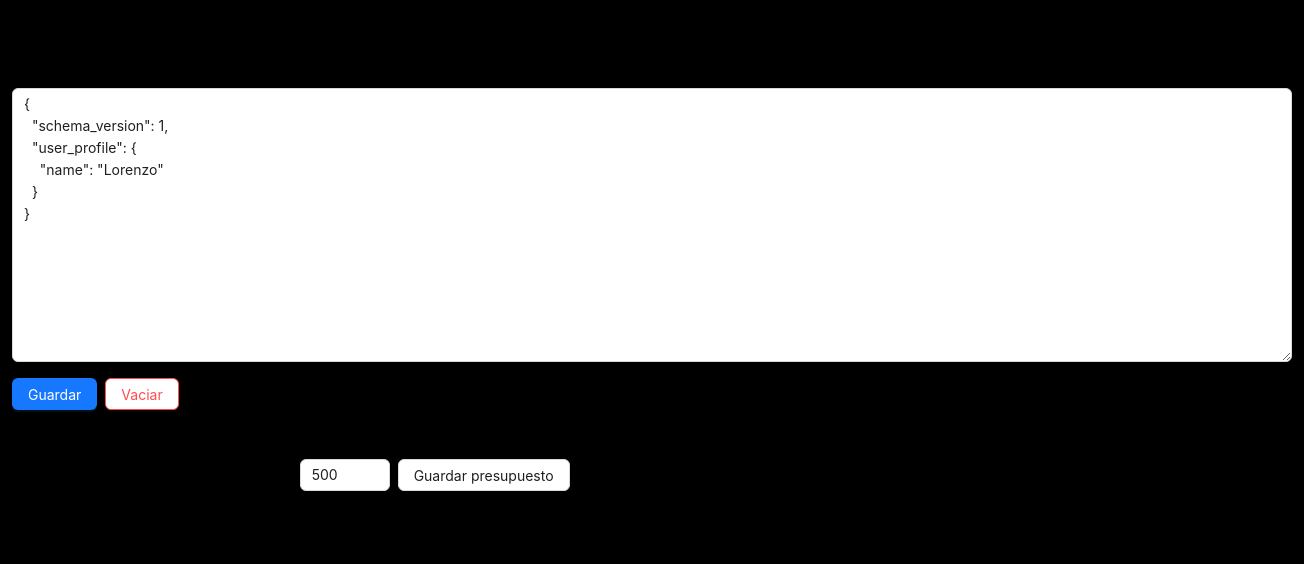
Test: PersistentMemoryPanel › ante 409 recarga el estado y avisa del cambio
This screenshot has width=1304, height=564.
Click the button "Guardar". click: x=55, y=394
box: [12,378,97,410]
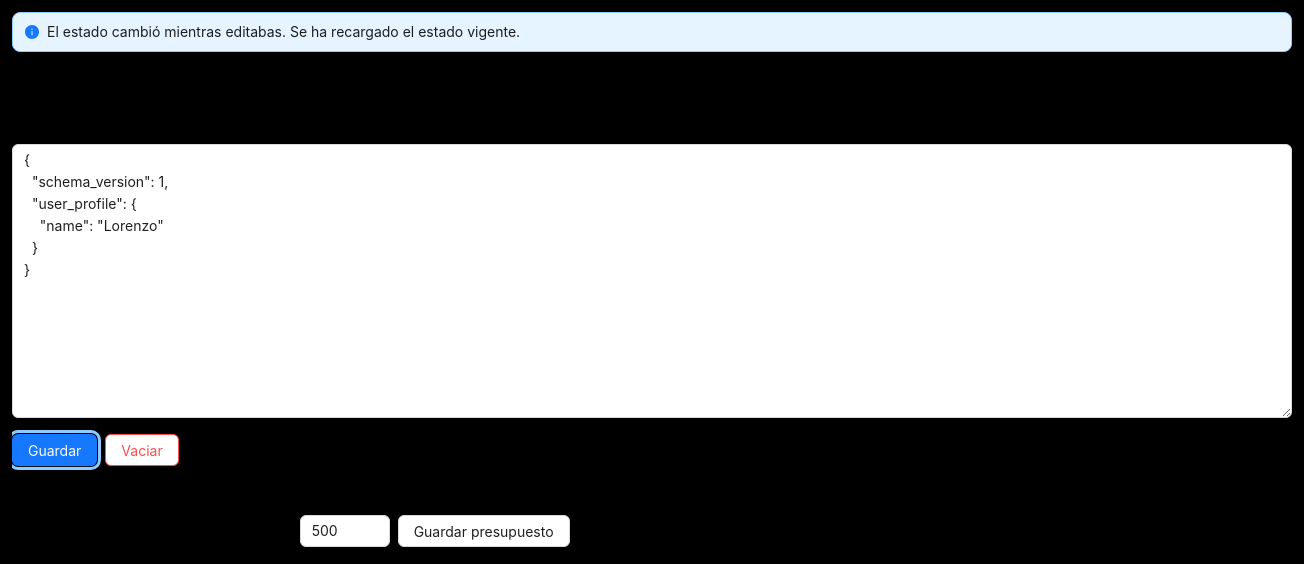
expect the text "cambió" is shown: met, box [47,23,520,40]
